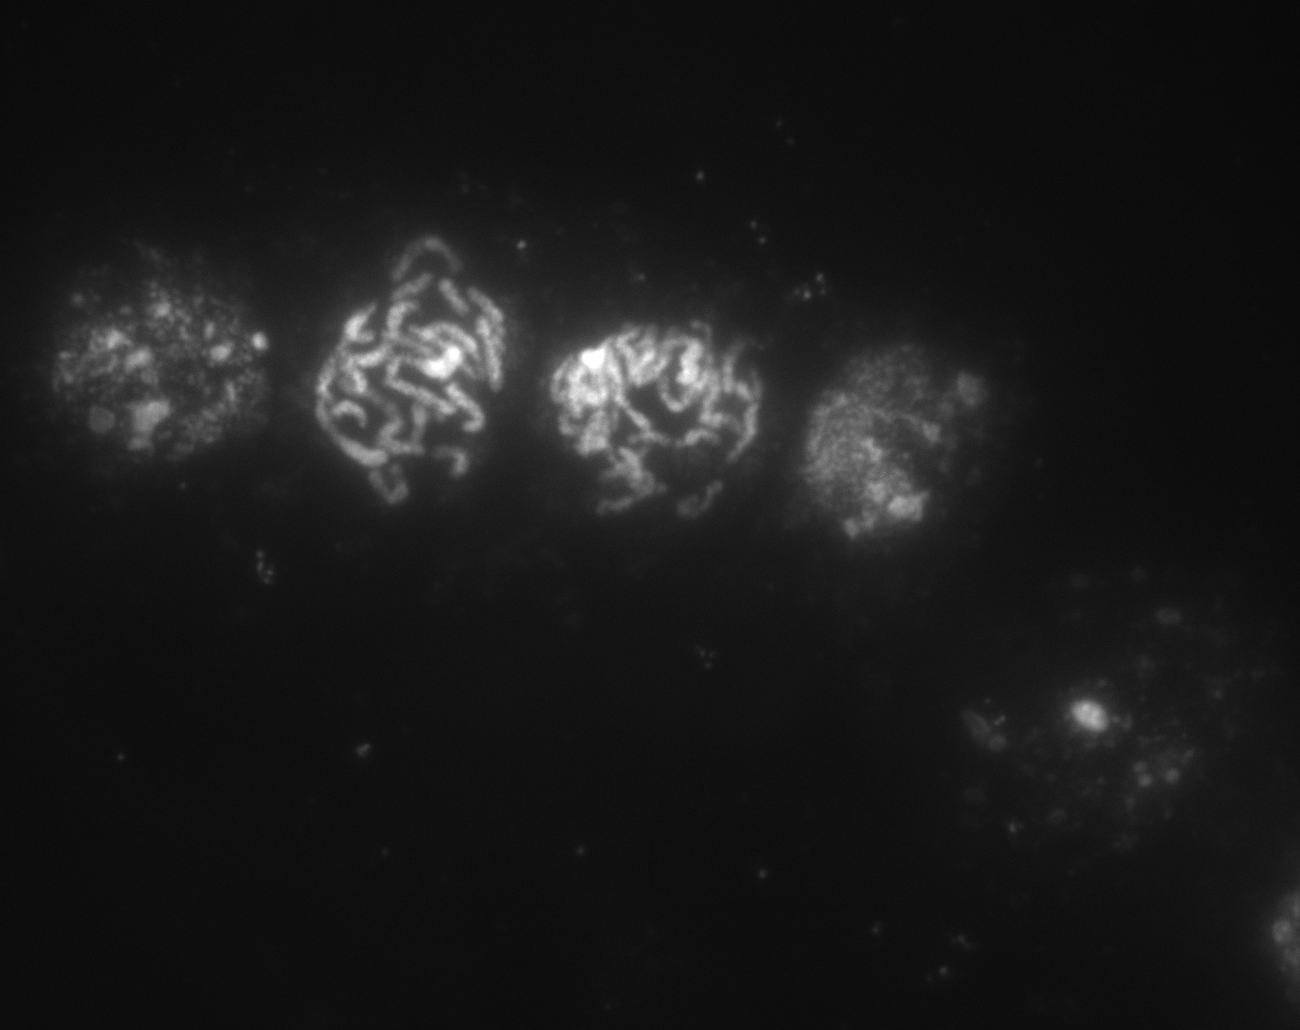Chromosomes: (297, 240, 557, 523), (516, 284, 768, 532)
Others: (15, 206, 300, 502), (786, 295, 1037, 576)
